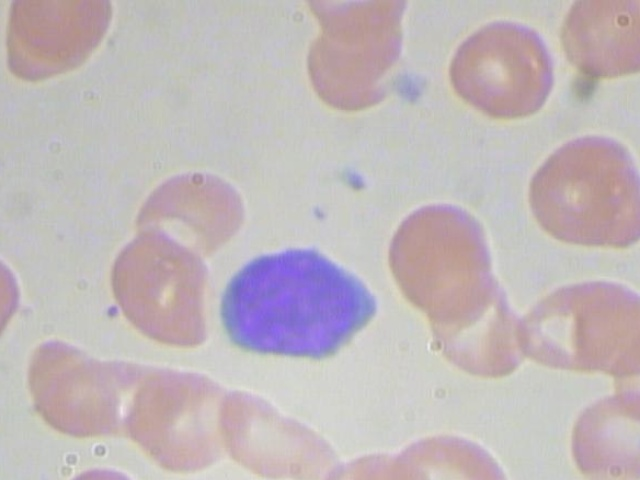Platelets: (390, 68, 428, 103), (336, 163, 373, 195)
RBC: (417, 256, 541, 383), (94, 225, 217, 352), (442, 11, 555, 128), (214, 380, 346, 480), (126, 157, 249, 264), (287, 22, 417, 119), (118, 356, 224, 474), (525, 134, 628, 253), (385, 200, 490, 304), (25, 347, 131, 449), (0, 0, 123, 71), (559, 378, 640, 480), (389, 422, 520, 480), (565, 277, 640, 378), (555, 0, 640, 82)
WBC: (213, 241, 391, 365)
